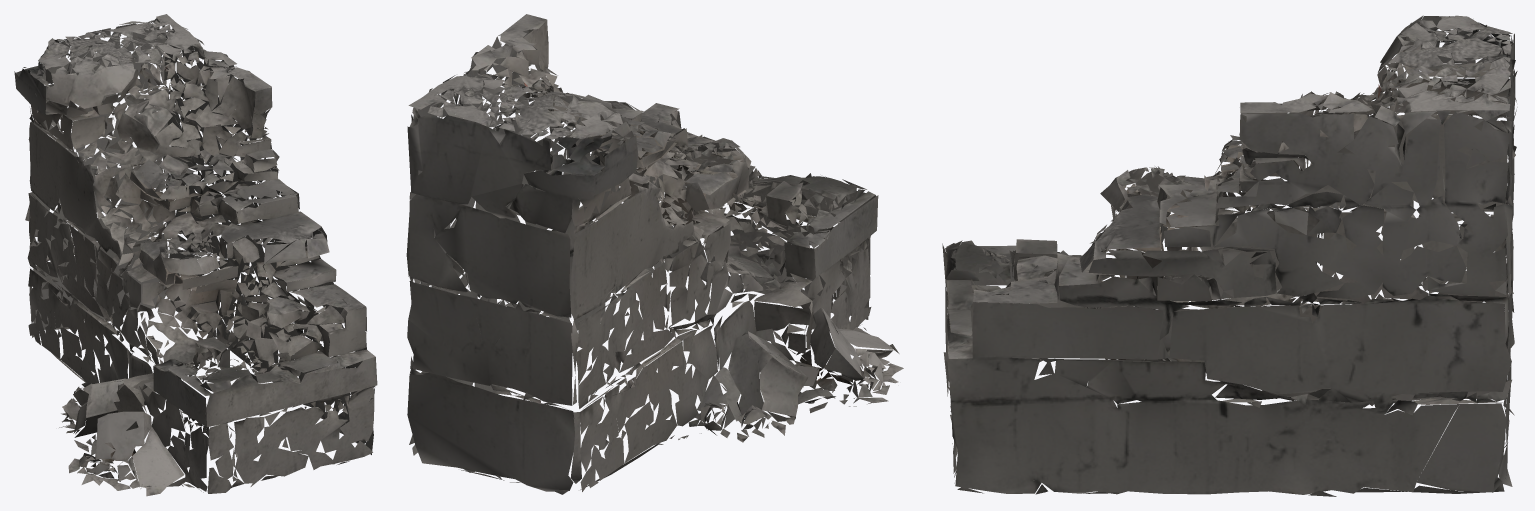
The model's file is BrokenWall.glb.
The picture shows the model from 3 angles, left to right: view 1: azimuth 30°, elevation 25°; view 2: azimuth 150°, elevation 25°; view 3: azimuth 270°, elevation 25°; orthographic projection. The views are drawn at different scales.
Visible parts, largest first — view 1: Brokenwall; view 2: Brokenwall; view 3: Brokenwall.
Part boxes in pixels (bbox=[...]): Brokenwall: bbox=[14, 14, 377, 496]; Brokenwall: bbox=[406, 14, 903, 494]; Brokenwall: bbox=[942, 15, 1517, 496].
Bounding box in the file's own units: 13.99 × 15.51 × 20.27.
Materials: 1 (1 with a texture image).
